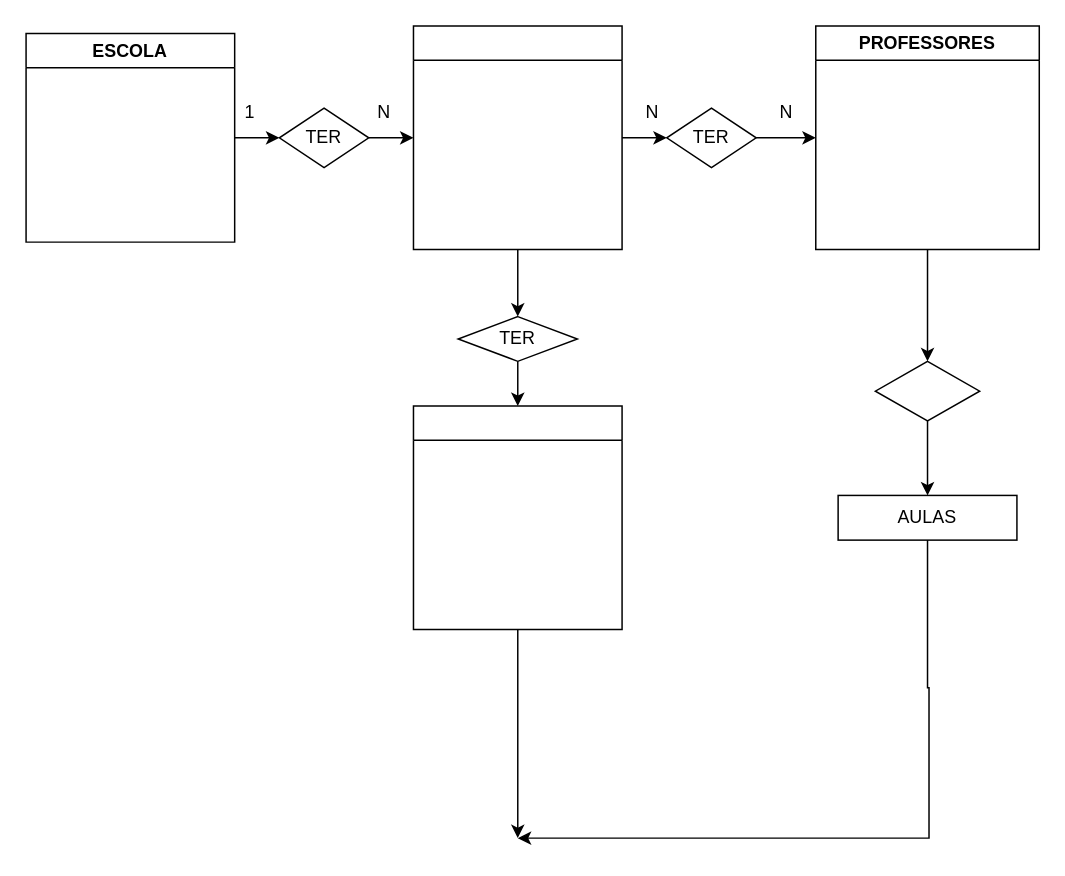
This 1065x876 diagram has some shape labels left out. Here are the shapes that lost their labels. From the top down, the centre of each, then its label:
[517,137]: TURMAS
[927,390]: ADMINISTRAR
[517,517]: SALA
